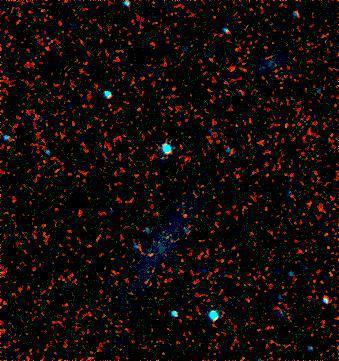star: (172, 201, 202, 231)
